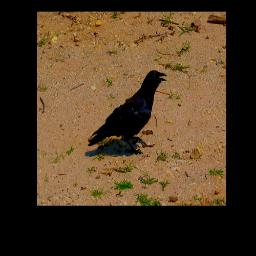Crow: (88, 70, 167, 155)
